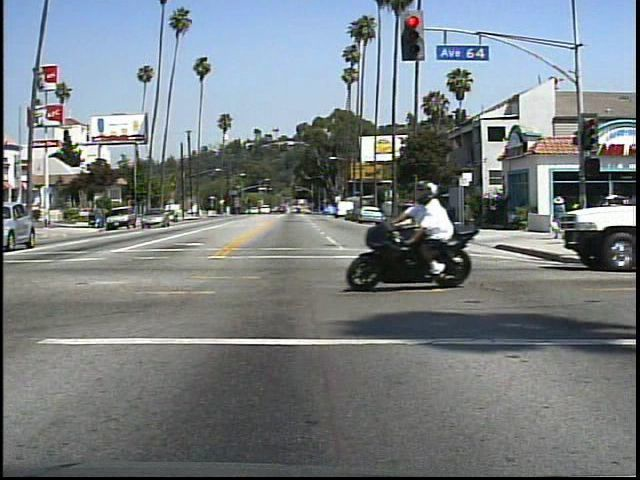person: (401, 180, 469, 284), (549, 192, 575, 242)
